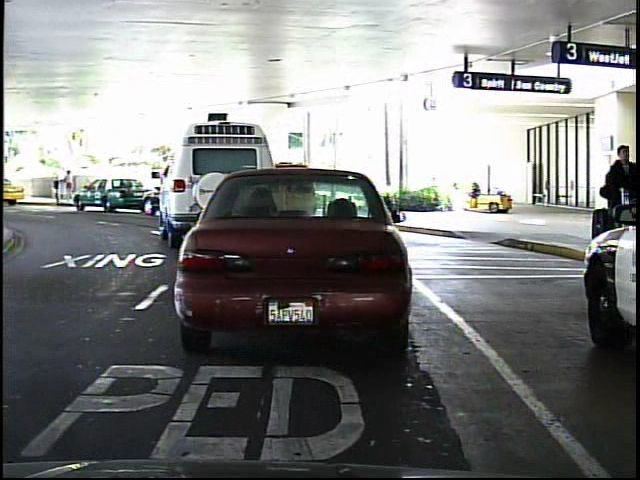person: (596, 139, 635, 254), (62, 165, 77, 203), (63, 162, 64, 201)
